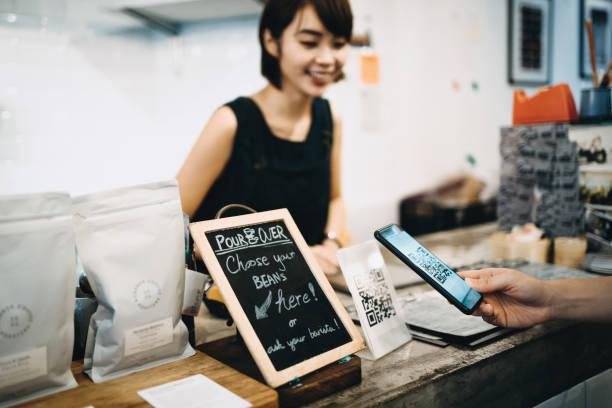Finder pattern: (364, 307, 381, 330), (350, 271, 367, 292), (431, 271, 448, 286), (371, 266, 385, 283), (407, 252, 421, 266), (416, 246, 430, 258)
